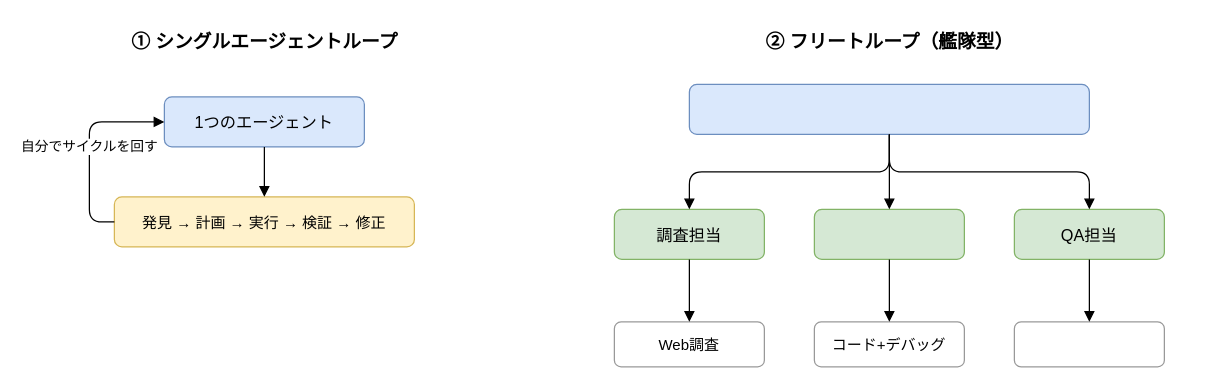
The diagram is 1211 pixels wide and 389 high, and some of its shapes have lost their labels. Here are the shapes that lost their labels. From the top down, the box of each, then its label:
(688, 83, 1089, 134): オーケストレーター（ゴール全体を管理）
(813, 208, 964, 259): 開発担当
(1013, 321, 1164, 367): テスト+バグ追跡
